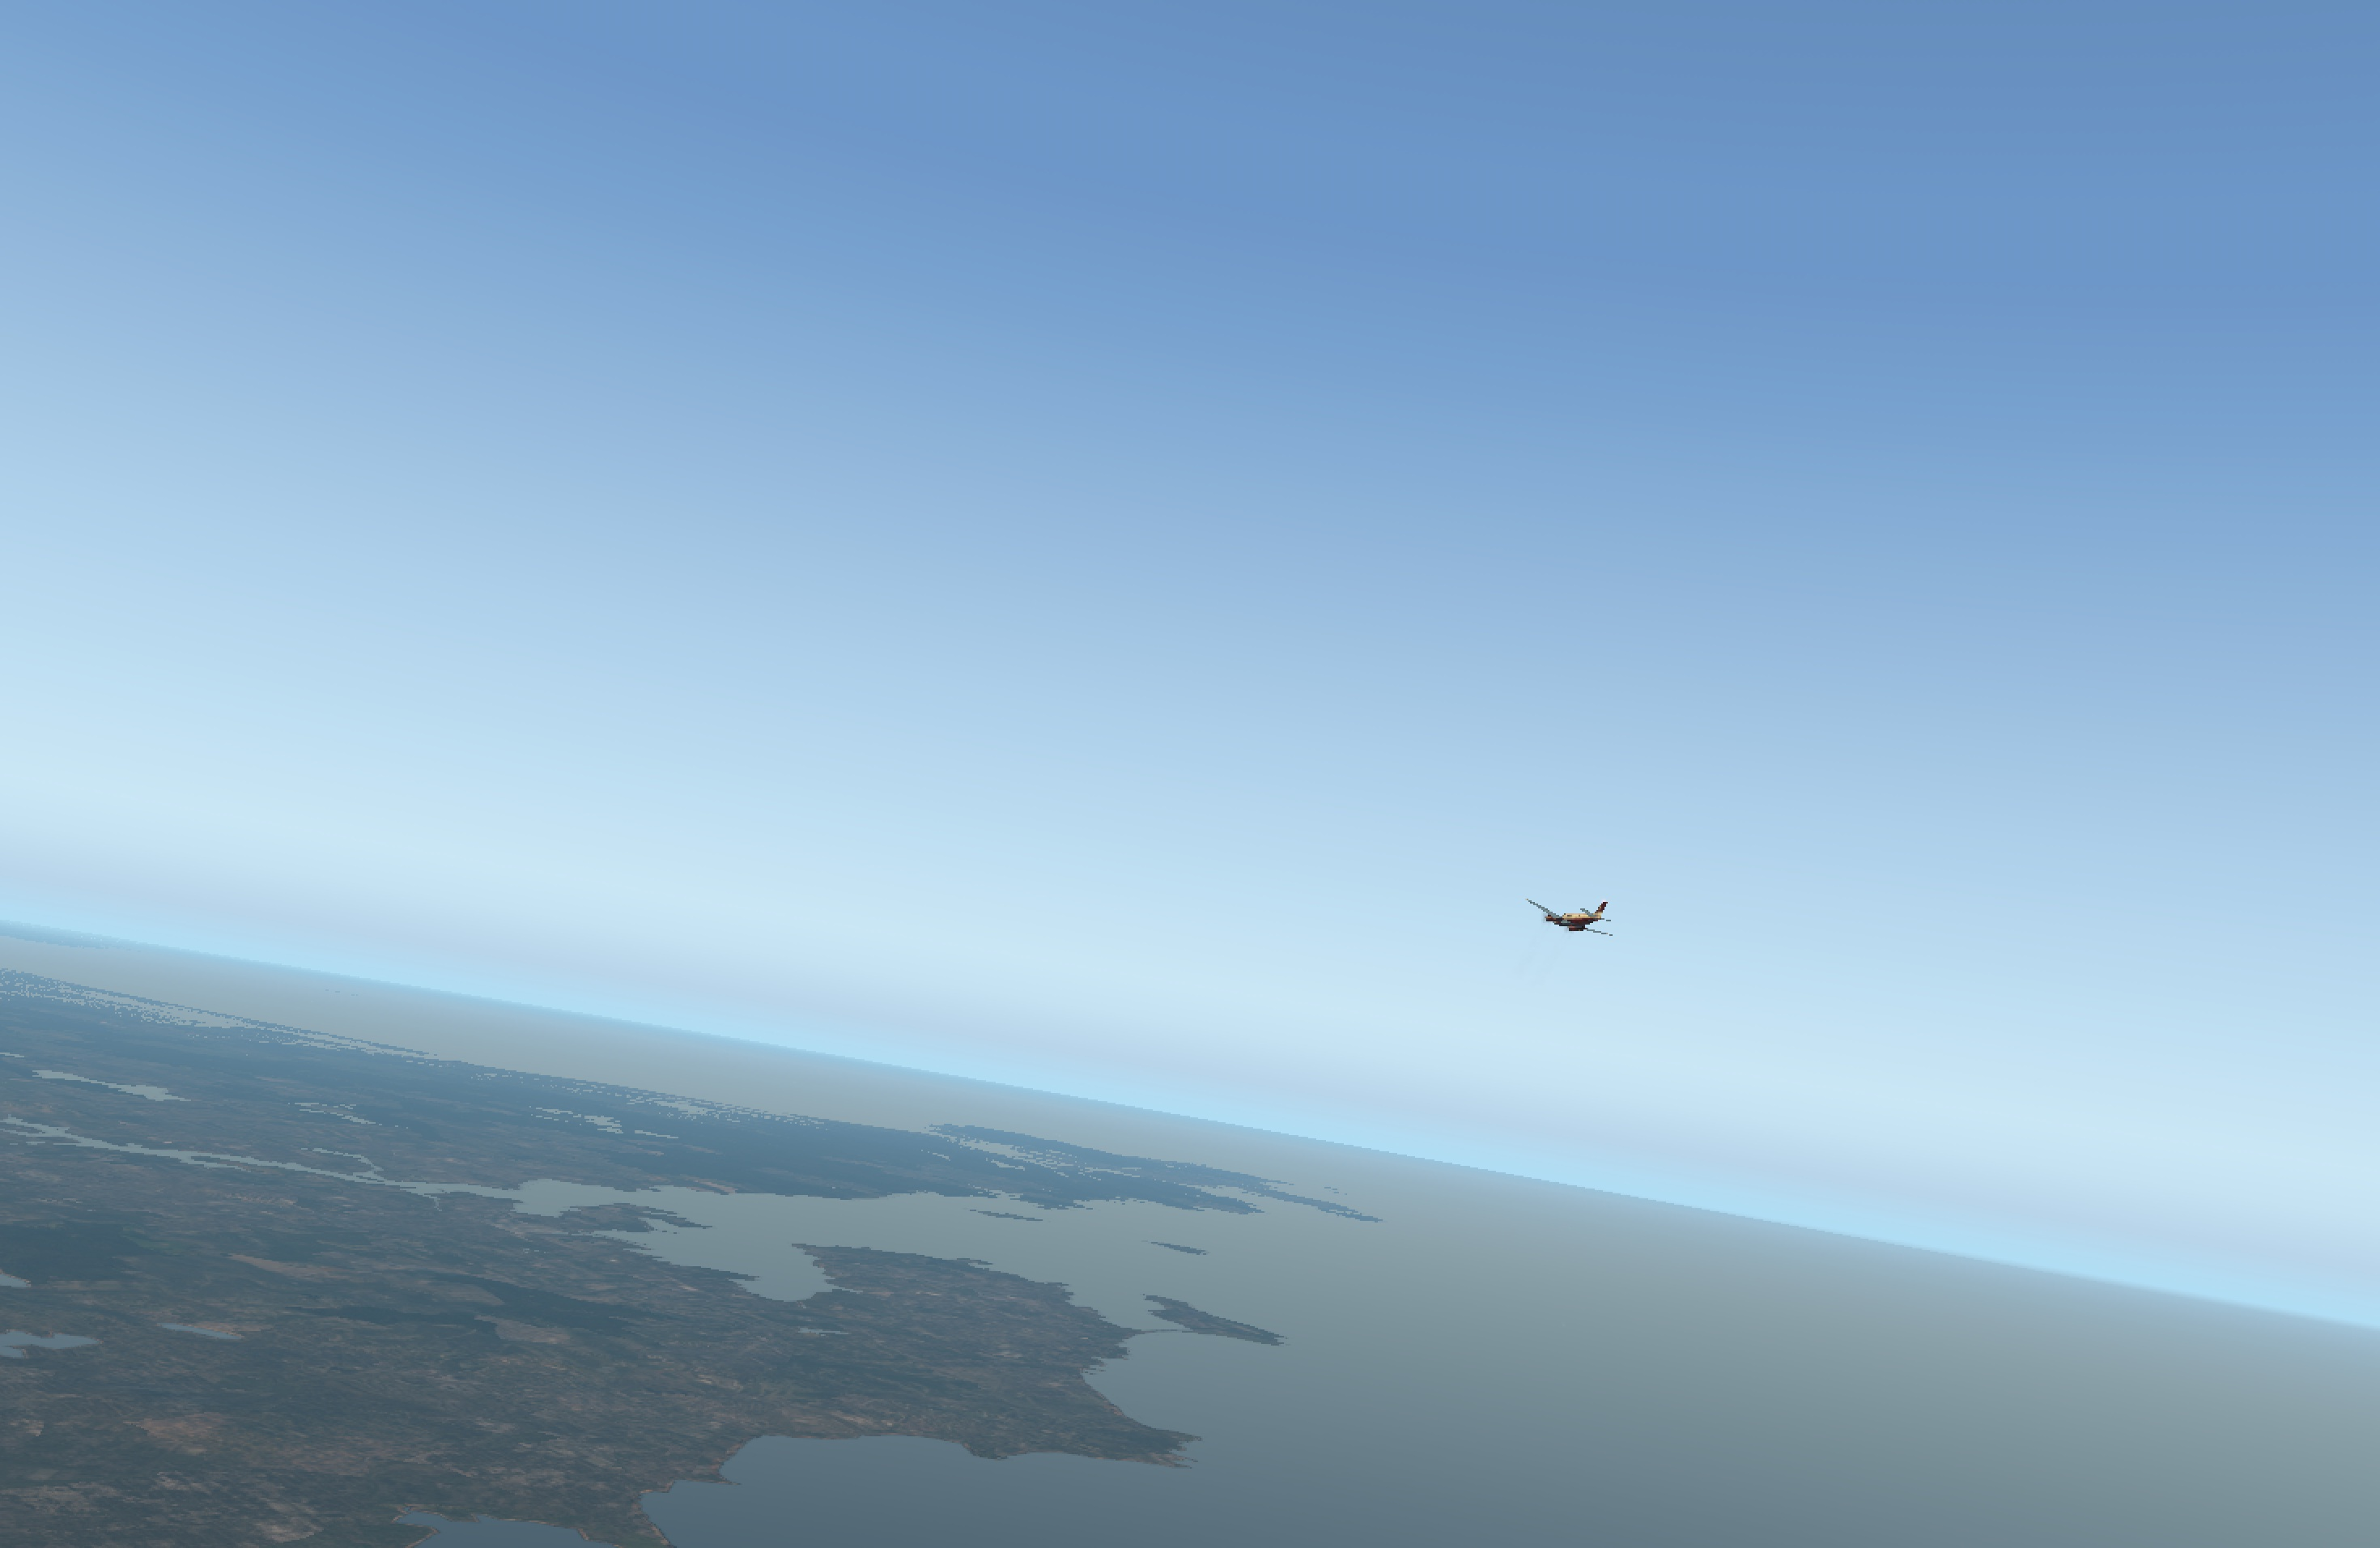aircraft: (1513, 904, 1625, 946)
